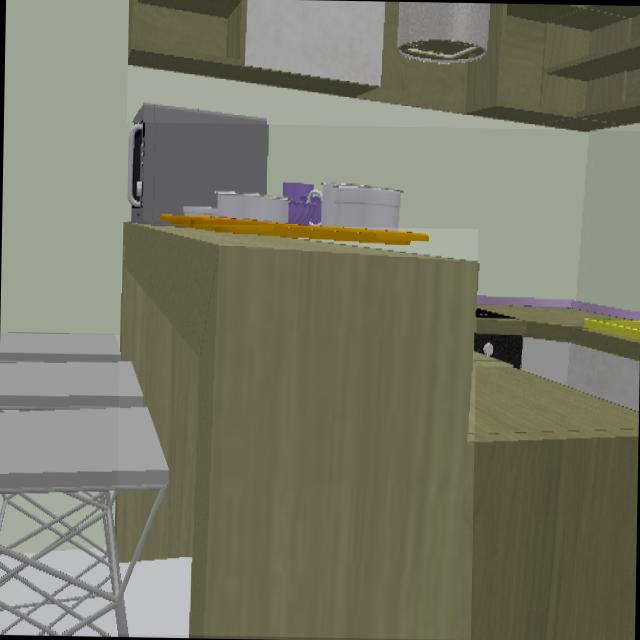cabinet: (128, 0, 640, 130)
chair: (0, 335, 168, 634)
microwave: (127, 103, 268, 224)
oven: (474, 335, 520, 366)
table: (120, 223, 477, 639)
